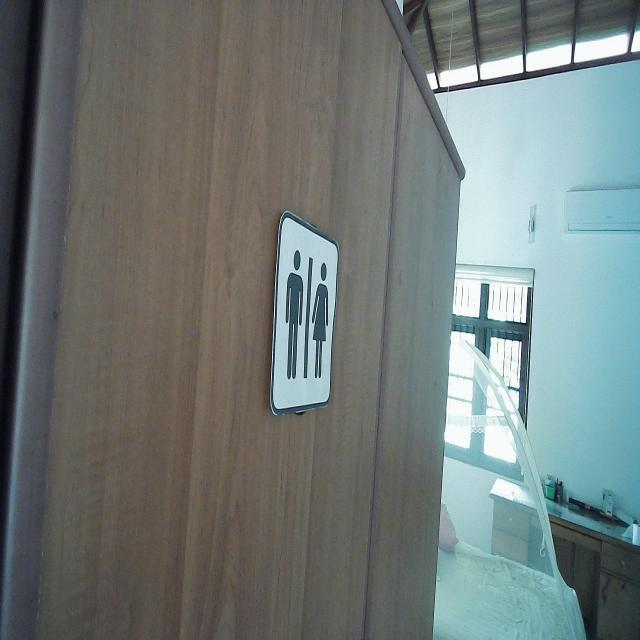restroom: (268, 207, 342, 420)
